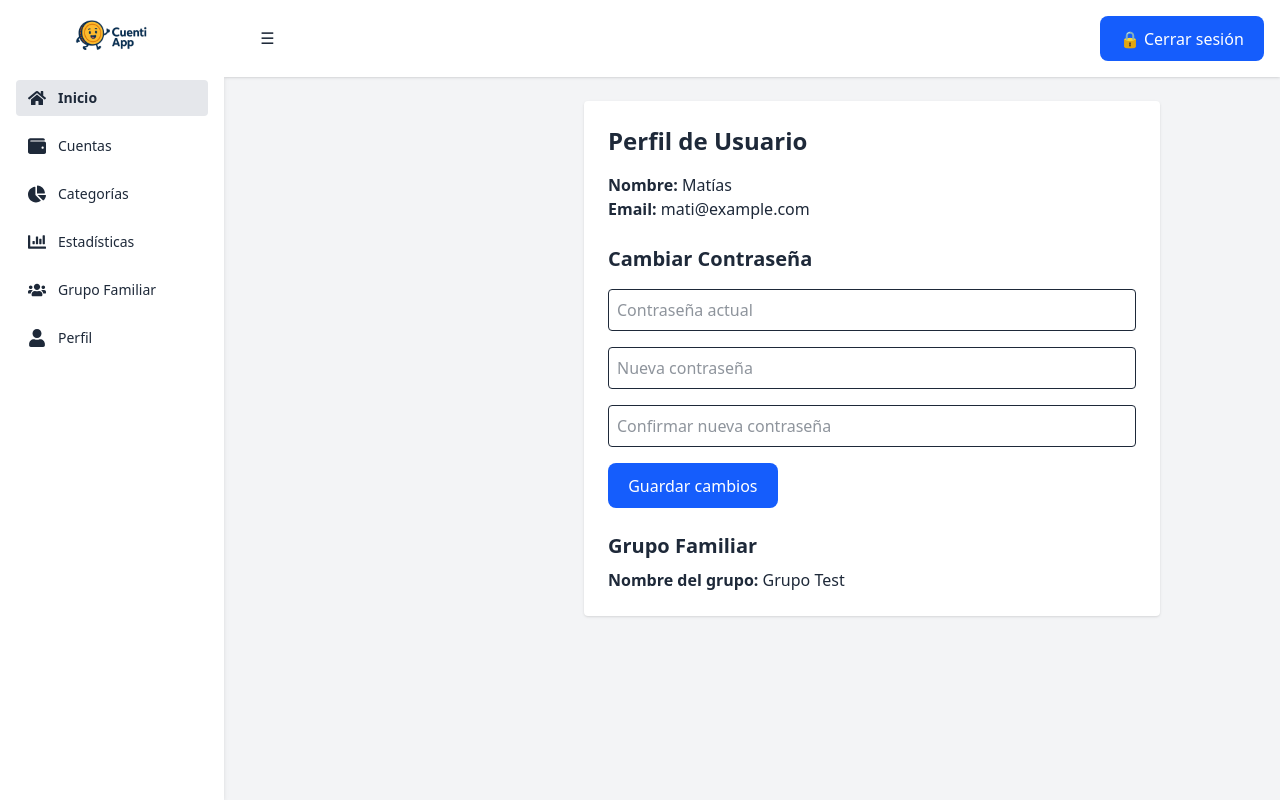
Test: PerfilPage › muestra mensaje si las contraseñas no coinciden
Step 1. Type "1234" into the password field with placeholder "Contraseña actual" → coordinates (872, 310), box top-left (608, 289), bottom-right (1136, 331)
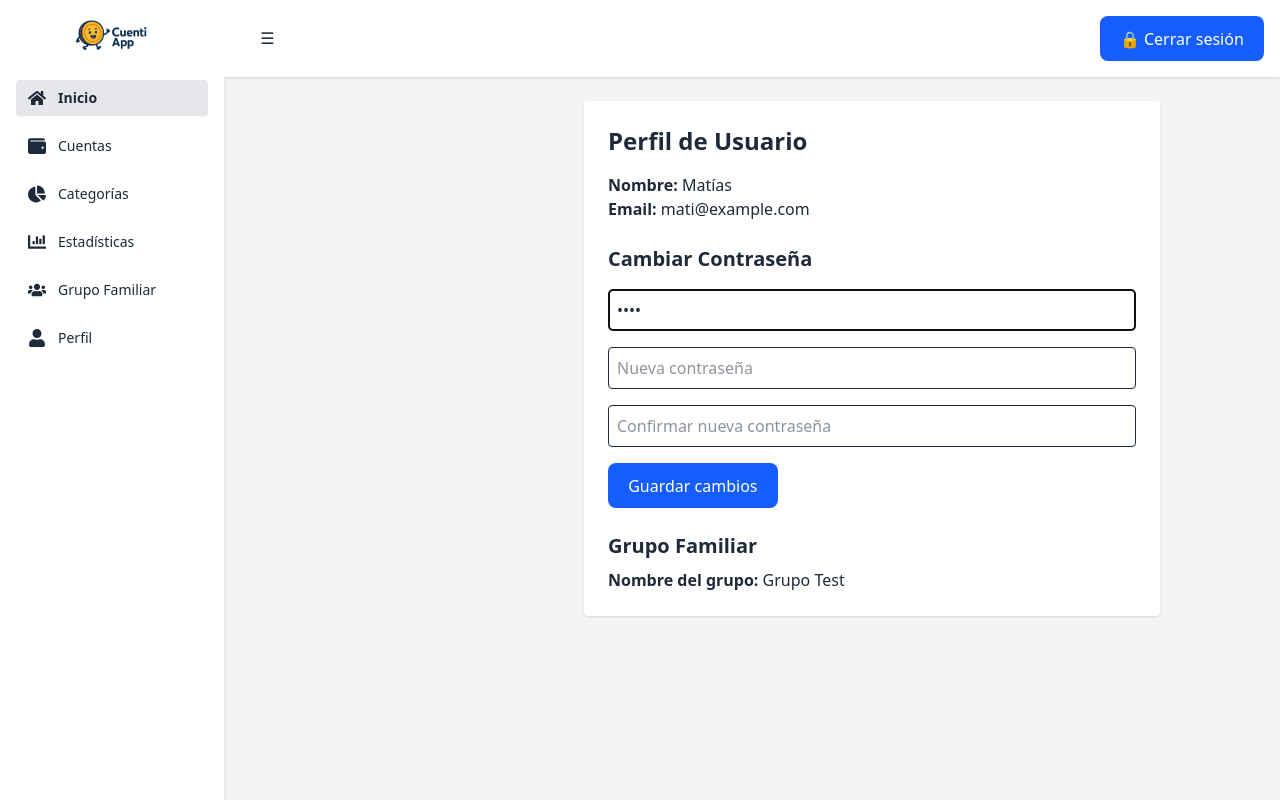
Step 2. Type "abcd" into the password field with placeholder "Nueva contraseña" → coordinates (872, 368), box top-left (608, 347), bottom-right (1136, 389)
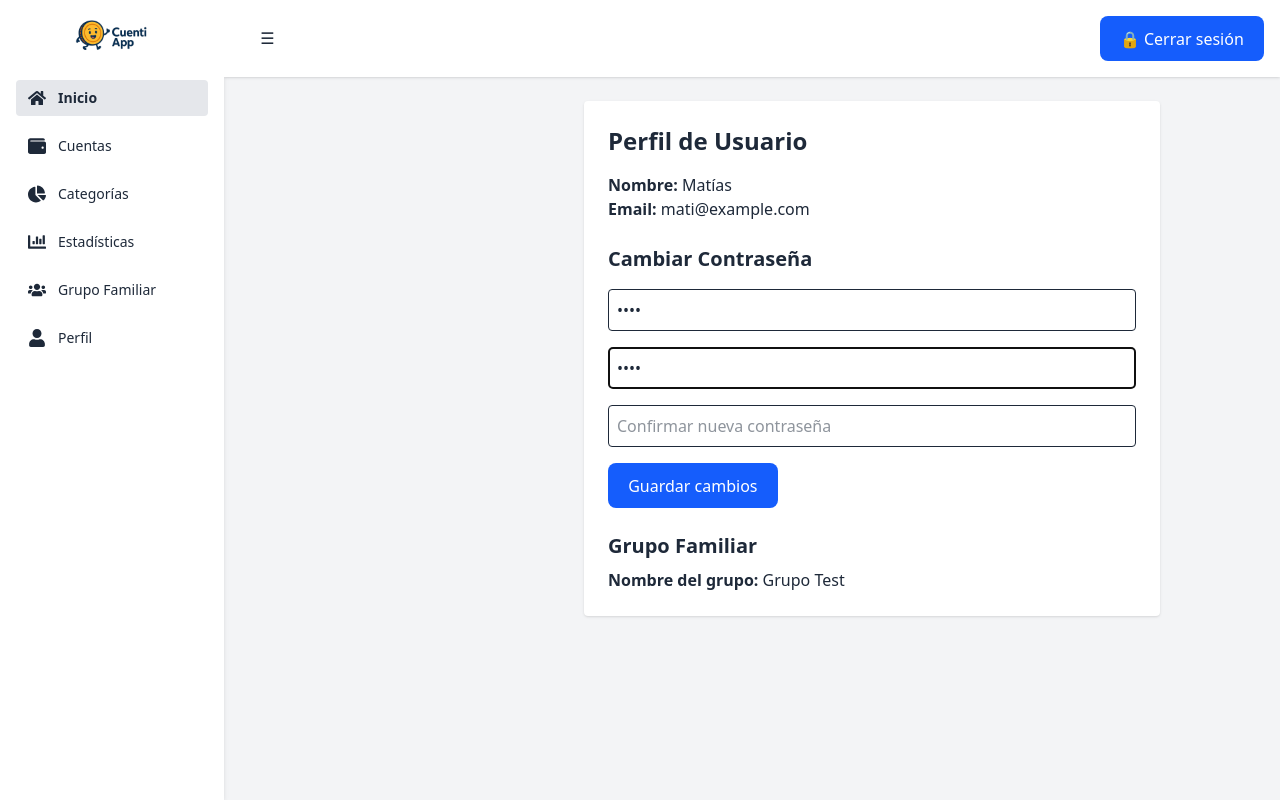
Step 3. Type "xyz" into the password field with placeholder "Confirmar nueva contraseña" → coordinates (872, 426), box top-left (608, 405), bottom-right (1136, 447)
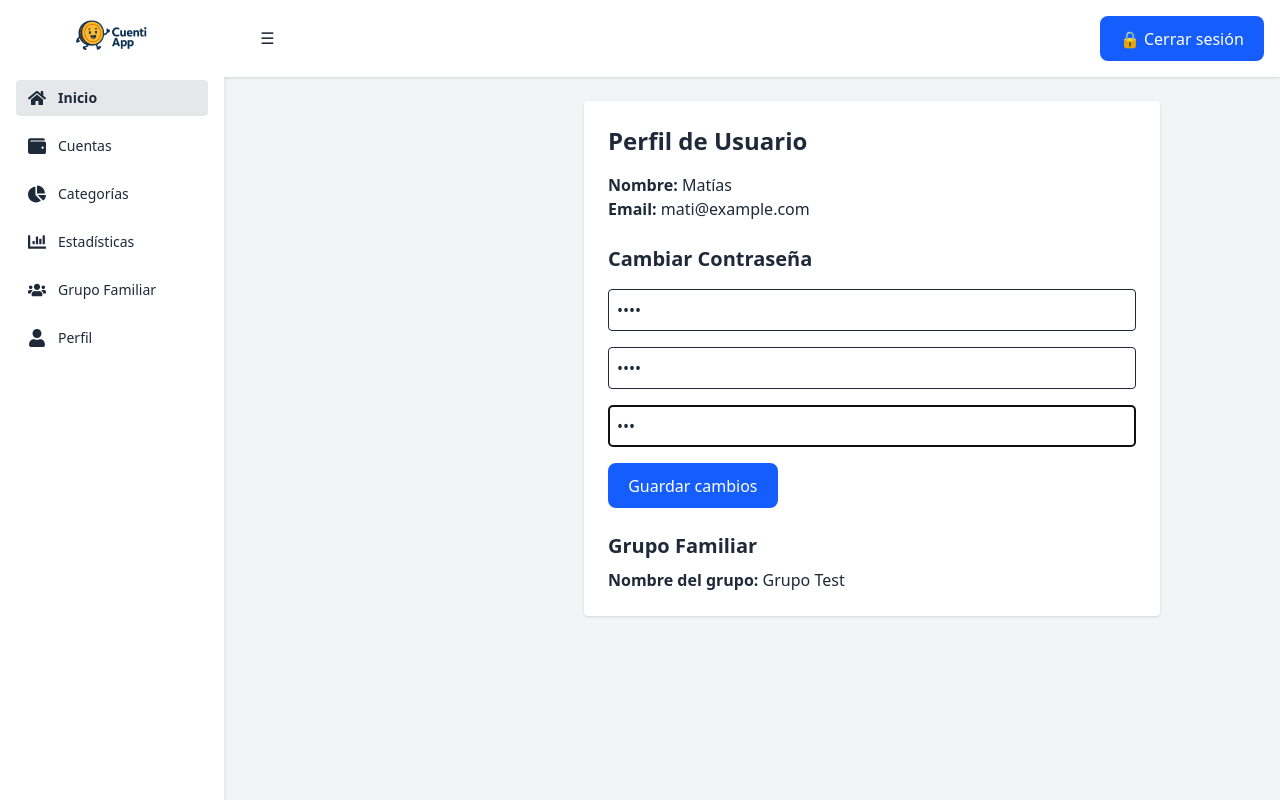
Step 4. Click the button "Guardar cambios" → coordinates (693, 486), box top-left (608, 463), bottom-right (778, 508)
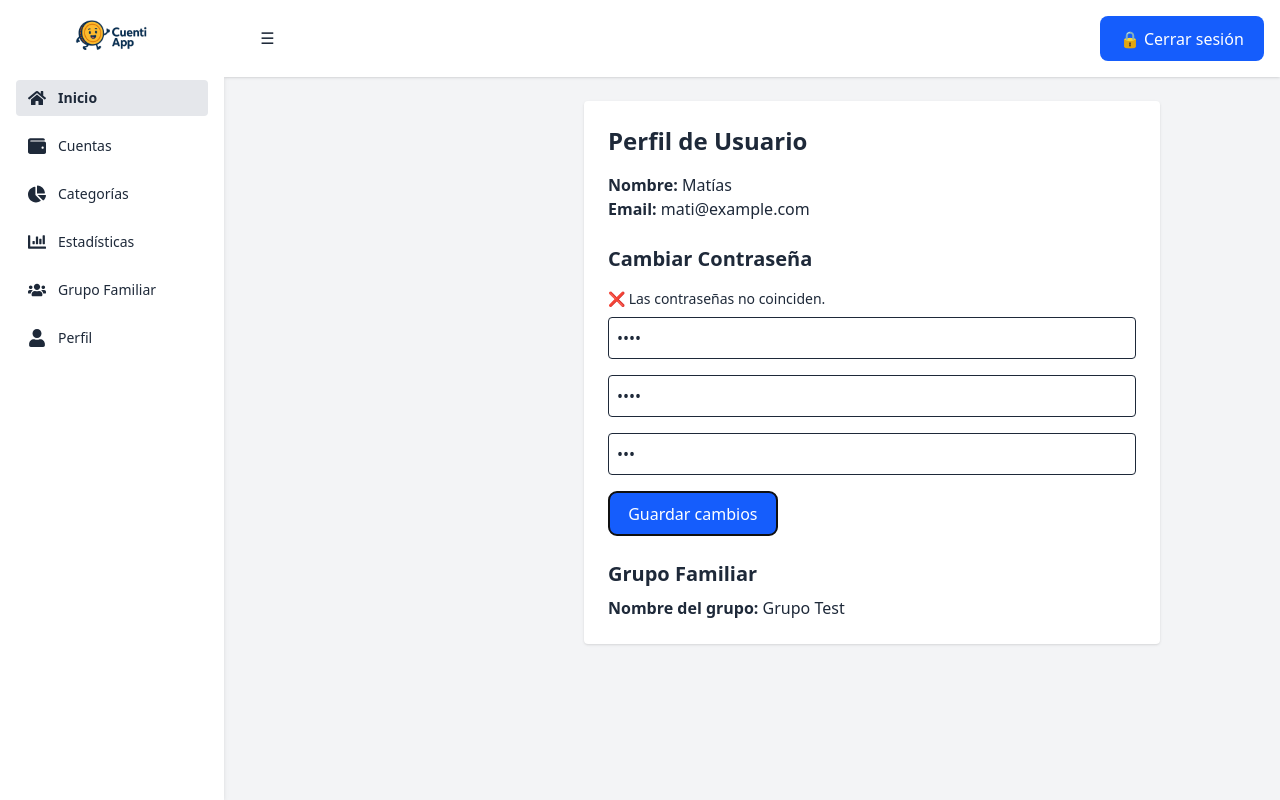
Result: the text "❌ Las contraseñas no coinciden." is shown at top-left (608, 289), bottom-right (825, 308)
